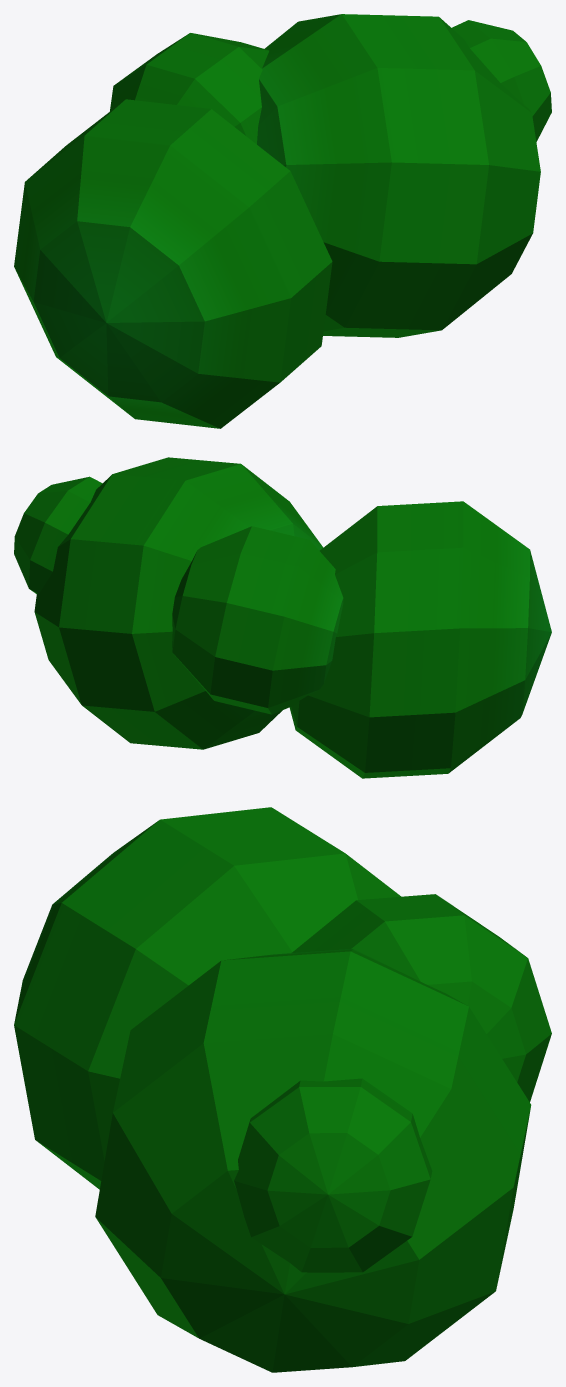
Rendered from Arbusto.obj.
3 renders of one model, top to bottom at view 1: azimuth 30°, elevation 25°; view 2: azimuth 150°, elevation 25°; view 3: azimuth 270°, elevation 25°, orthographic. The views are drawn at different scales.
Visible parts, largest first — view 1: Bushes_3; view 2: Bushes_3; view 3: Bushes_3.
Part boxes in pixels (left/top/right/bottom): Bushes_3: left=14, top=14, right=551, bottom=428; Bushes_3: left=14, top=457, right=551, bottom=778; Bushes_3: left=14, top=807, right=551, bottom=1372.
Size of the model in its own units: 0.7162 by 0.3928 by 0.4766.
1 material, 1 textured.
